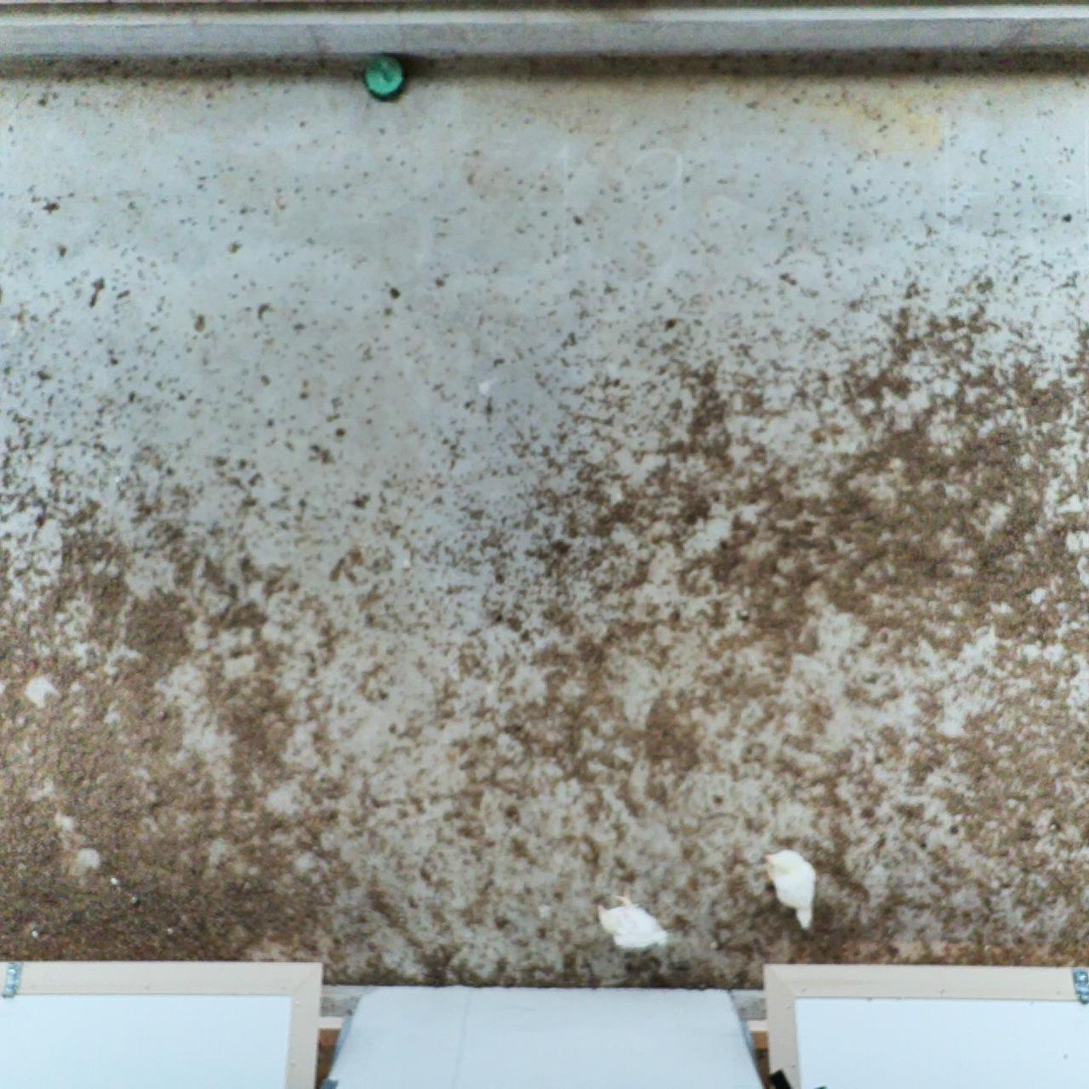chicken: (757, 846, 820, 932), (594, 889, 673, 955)
